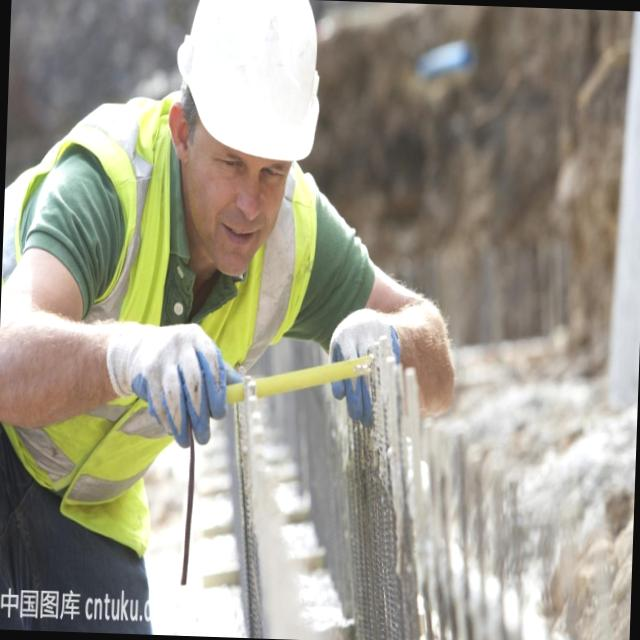helmet: (170, 0, 323, 167)
vest: (18, 136, 260, 529)
